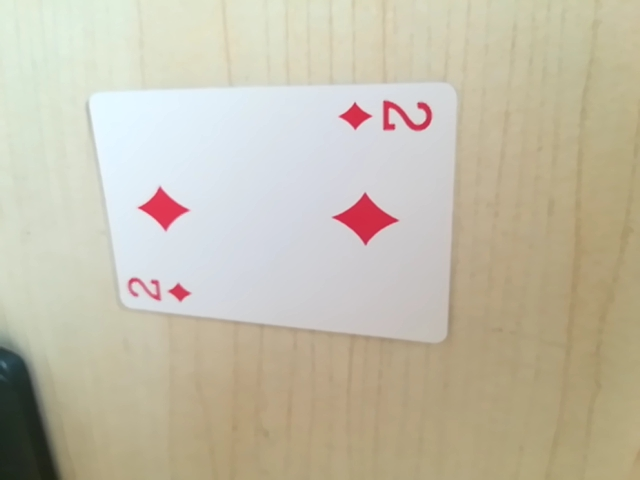fk 2: (335, 92, 439, 143), (123, 268, 200, 308)
